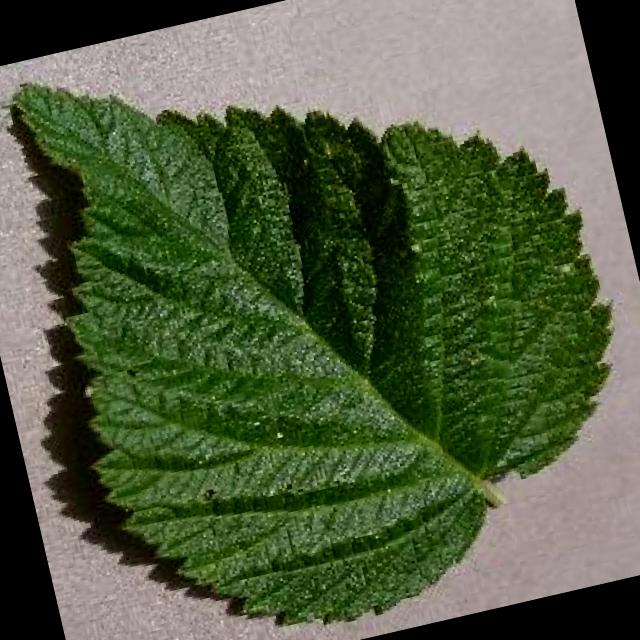healthy: (13, 83, 610, 620)
